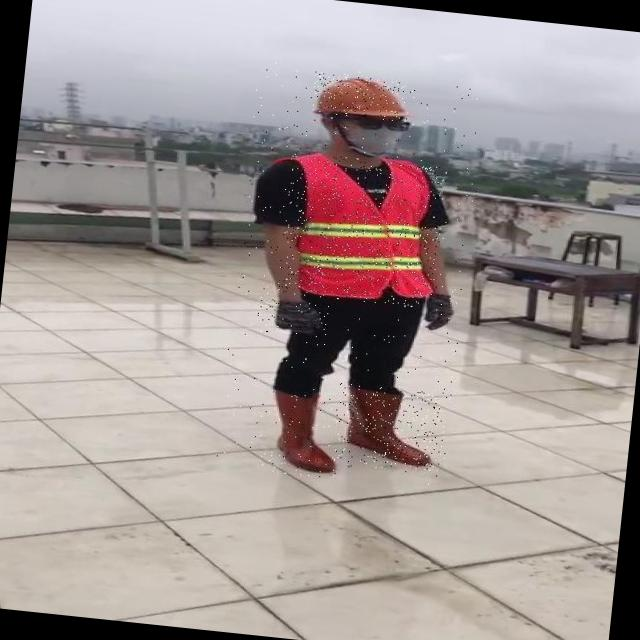hard_hat: (311, 70, 413, 122)
safety_vest: (276, 151, 447, 309)
vehicle: (216, 60, 485, 486)
work_boots: (332, 382, 448, 472), (266, 390, 344, 479)
